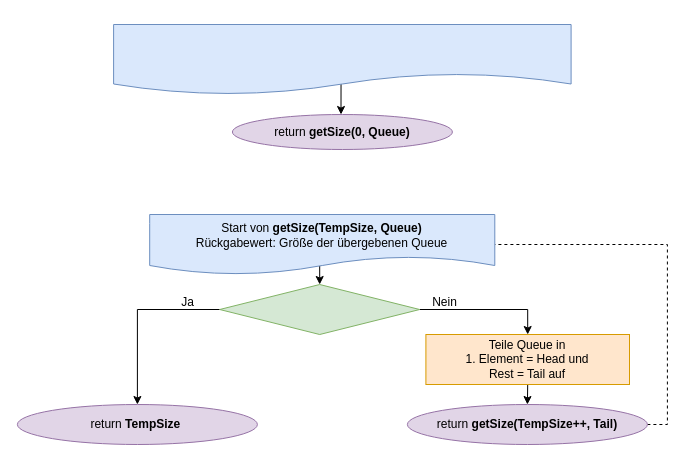
The diagram is 686 pixels wide and 462 high, and some of its shapes have lost their labels. The box of each missing label's shape, as (x1, y1, x2, y2) in pixels:
isEmpty(Queue): (219, 284, 420, 334)
Start von lengthDLQ(Queue) Rückgabewert: gibt die Länge der Queue zurück: (113, 24, 571, 94)
